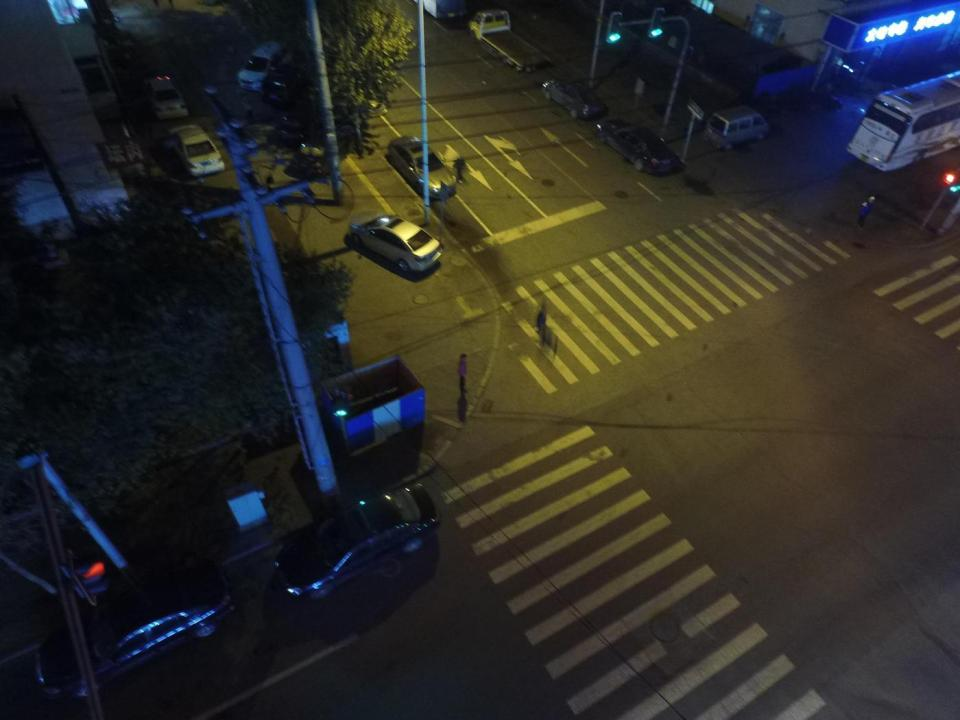bus: (846, 70, 960, 170)
car: (33, 555, 230, 698), (272, 482, 439, 600), (352, 207, 443, 274), (385, 135, 457, 201), (596, 120, 679, 175), (276, 93, 340, 146), (167, 122, 225, 176), (296, 129, 353, 180), (543, 80, 610, 120), (236, 42, 286, 88), (140, 74, 188, 121), (263, 62, 310, 105)
truck: (468, 9, 552, 71)
van: (704, 106, 770, 148)
